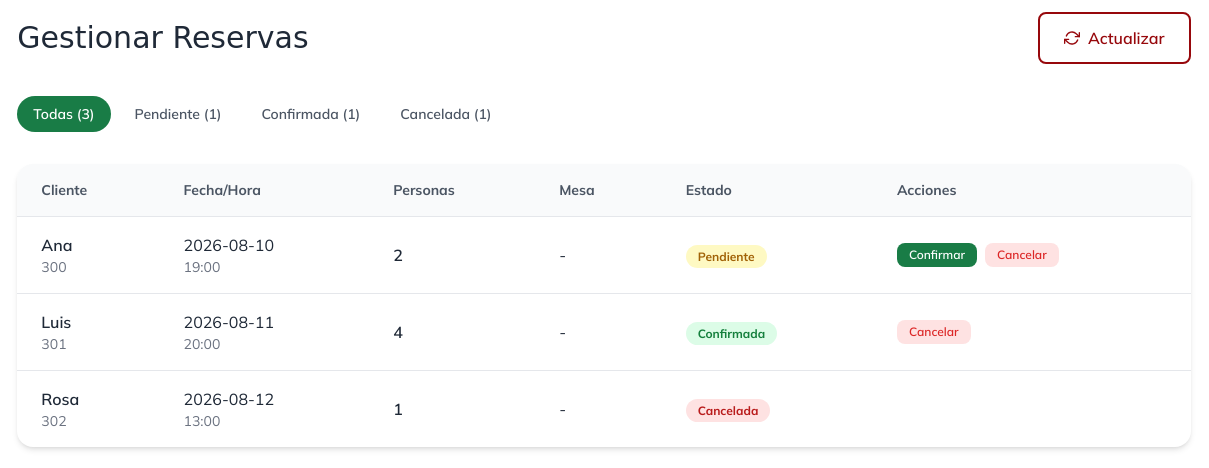
Test: AdminReservations › confirms a pending reservation
Expected: the text "Ana" is shown, [41,235,72,255]
What coordinates should you click on to do the following:
click the button "Confirmar"
I would click on:
 (937, 255)
Its box is [897,243,977,267].
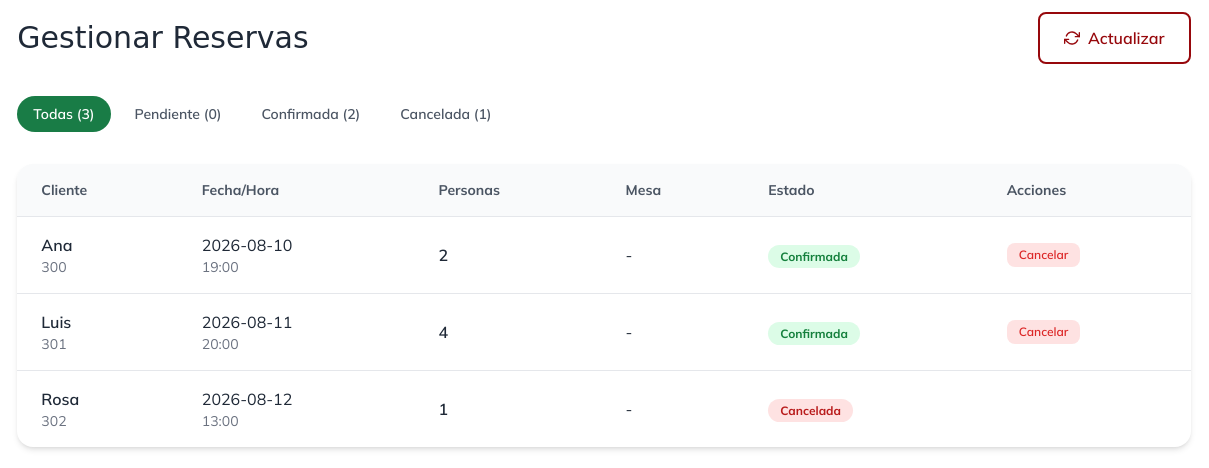
Expected: the button "Confirmar" is gone
